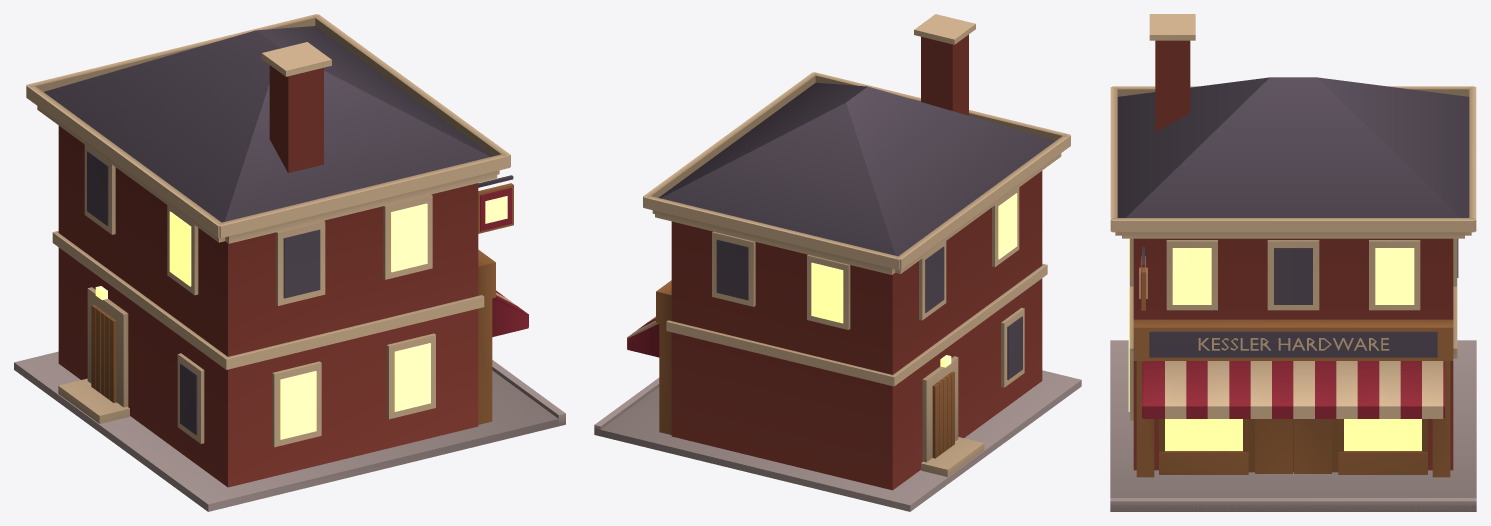
The picture shows the model from 3 angles, left to right: view 1: azimuth 30°, elevation 25°; view 2: azimuth 150°, elevation 25°; view 3: azimuth 270°, elevation 25°; orthographic projection. The views are drawn at different scales.
Parts seen in each view (by area): view 1: body_pal_brick, body_pal_asphalt, body_pal_canvasTan, body_pal_sidewalk, body_emi_windowGlow, body_pal_woodWarm, door_cellar_pal_woodWarm, body_pal_redDark; view 2: body_pal_brick, body_pal_asphalt, body_pal_canvasTan, body_pal_sidewalk, body_emi_windowGlow, body_pal_woodWarm, door_cellar_pal_woodWarm, body_pal_redDark; view 3: body_pal_asphalt, body_pal_canvasTan, body_pal_sidewalk, body_pal_brick, body_pal_woodWarm, body_emi_windowGlow, body_pal_redDark.
Part boxes in pixels (<box>): body_pal_brick: <box>58,65,478,487</box>; body_pal_asphalt: <box>44,26,513,435</box>; body_pal_canvasTan: <box>26,14,516,447</box>; body_pal_sidewalk: <box>14,351,565,511</box>; body_emi_windowGlow: <box>95,196,507,439</box>; body_pal_woodWarm: <box>478,183,513,424</box>; door_cellar_pal_woodWarm: <box>91,304,116,402</box>; body_pal_redDark: <box>480,187,528,336</box>; body_pal_brick: <box>671,34,1042,490</box>; body_pal_asphalt: <box>658,82,1055,379</box>; body_pal_canvasTan: <box>627,14,1070,476</box>; body_pal_sidewalk: <box>594,370,1081,511</box>; body_emi_windowGlow: <box>811,193,1017,367</box>; body_pal_woodWarm: <box>656,280,671,434</box>; door_cellar_pal_woodWarm: <box>932,371,954,458</box>; body_pal_redDark: <box>627,318,659,357</box>; body_pal_asphalt: <box>1117,77,1469,357</box>; body_pal_canvasTan: <box>1110,14,1476,420</box>; body_pal_sidewalk: <box>1110,340,1476,511</box>; body_pal_brick: <box>1133,40,1453,470</box>; body_pal_woodWarm: <box>1133,256,1453,477</box>; body_emi_windowGlow: <box>1128,238,1421,450</box>; body_pal_redDark: <box>1140,259,1444,418</box>.
Bounding box in the file's own units: 10 × 10.73 × 9.4.
